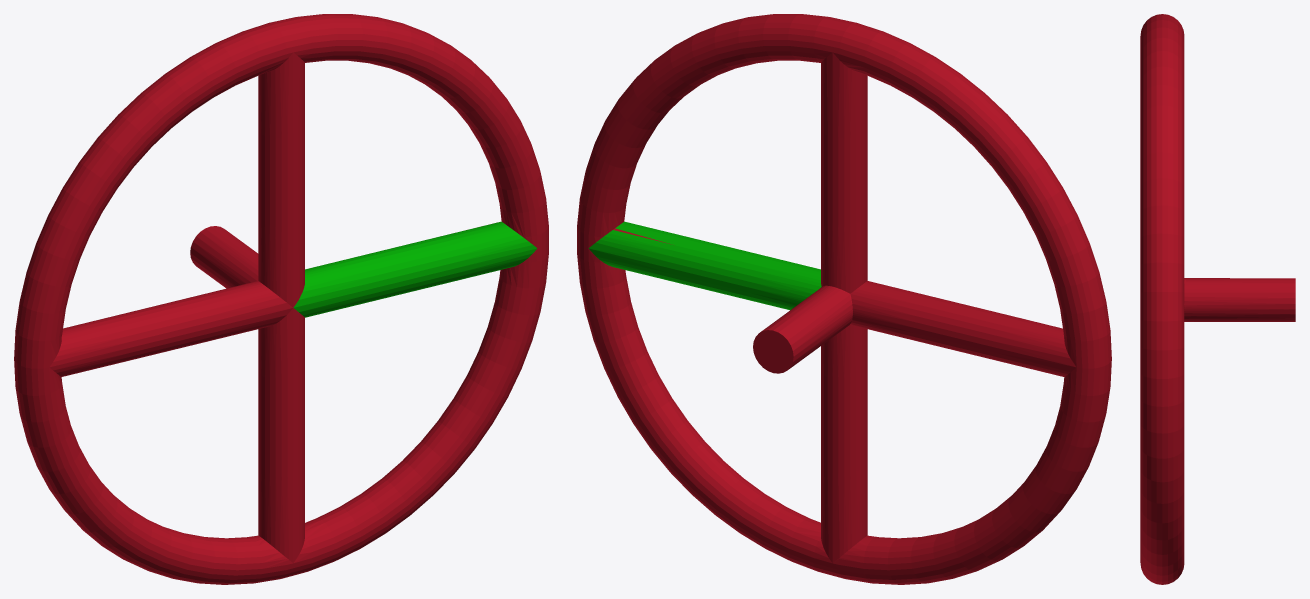
File: Wheel_Disconnected.dae
3 renders of one model, left to right at view 1: azimuth 30°, elevation 25°; view 2: azimuth 150°, elevation 25°; view 3: azimuth 270°, elevation 25°, orthographic. The views are drawn at different scales.
Visible parts, largest first — view 1: WHEELTASK; view 2: WHEELTASK; view 3: WHEELTASK.
Boxes of the visible parts, x1,y1,x2,y2 form: WHEELTASK: (14, 14, 548, 584); WHEELTASK: (577, 14, 1111, 584); WHEELTASK: (1140, 14, 1295, 584).
Bounding box in the file's own units: 33 × 8.96 × 33.01.
